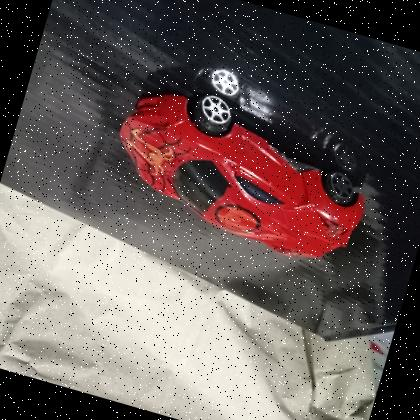Car: (94, 68, 388, 278)
